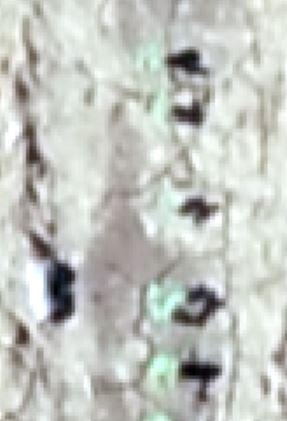cotton: (149, 287, 184, 315), (154, 355, 176, 383), (153, 96, 174, 122), (144, 48, 162, 71)
